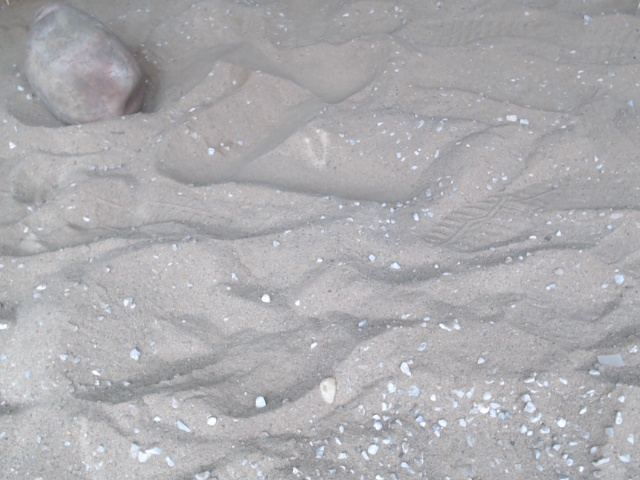rock: (9, 1, 153, 132)
